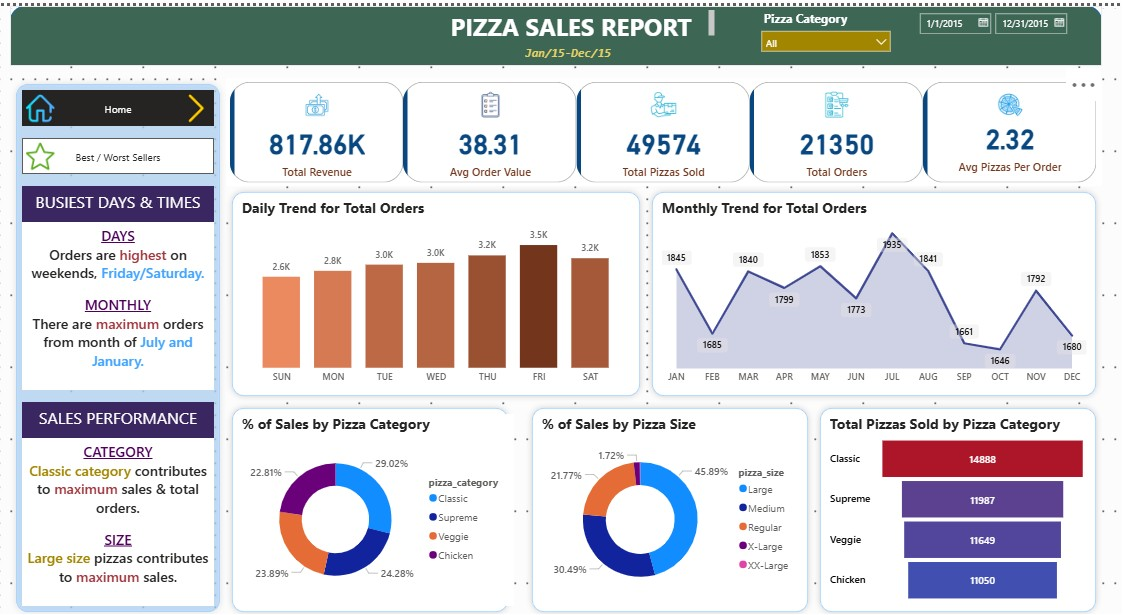

Layout of this report page (visuals, bound fields, positions):
{"tool":"powerbi","page":{"name":"Home","canvas":[1500,820],"ordinal":0},"visuals":[{"type":"shape","box":[16,96,288,720],"z":0},{"type":"cardVisual","fields":{"Data":["pizza_sales.Total Revenue","pizza_sales.Avg Order Value","pizza_sales.Total Pizzas Sold","pizza_sales.Total Orders","pizza_sales.Avg Pizzas Per Order"]},"box":[304,96,1168,144],"z":1000},{"type":"shape","box":[16,0,1456,80],"z":2000},{"type":"textbox","box":[576,0,384,48],"z":3000},{"type":"textbox","box":[688,48,144,32],"z":4000},{"type":"shape","box":[304,240,560,288],"z":5000},{"type":"columnChart","title":"Daily Trend for Total Orders","fields":{"Category":["pizza_sales.Order Day"],"Y":["pizza_sales.Total Orders"]},"box":[320,256,528,256],"z":6000},{"type":"shape","box":[864,240,608,288],"z":7000},{"type":"textbox","box":[32,240,256,48],"z":8000},{"type":"areaChart","title":"Monthly Trend for Total Orders","fields":{"Category":["pizza_sales.Order Month"],"Y":["pizza_sales.Total Orders"]},"box":[880,256,576,256],"z":9000},{"type":"shape","box":[304,528,384,288],"z":10000},{"type":"shape","box":[704,528,384,288],"z":11000},{"type":"shape","box":[1088,528,384,288],"z":12000},{"type":"donutChart","title":"% of Sales by Pizza Category","fields":{"Category":["pizza_sales.pizza_category"],"Y":["pizza_sales.Total Orders"]},"box":[320,544,368,256],"z":13000},{"type":"donutChart","title":"% of Sales by Pizza Size","fields":{"Category":["pizza_sales.pizza_size"],"Y":["pizza_sales.Total Revenue"]},"box":[720,544,352,256],"z":14000},{"type":"funnel","title":"Total Pizzas Sold by Pizza Category","fields":{"Category":["pizza_sales.pizza_category"],"Y":["pizza_sales.Total Pizzas Sold"]},"box":[1104,544,352,256],"z":15000},{"type":"textbox","box":[32,288,256,224],"z":16000},{"type":"textbox","box":[32,528,256,48],"z":17000},{"type":"textbox","box":[32,576,256,224],"z":18000},{"type":"slicer","fields":{"Values":["pizza_sales.pizza_category"]},"box":[1008,0,192,80],"z":19000},{"type":"slicer","fields":{"Values":["pizza_sales.order_date"]},"box":[1216,0,224,64],"z":20000},{"type":"pageNavigator","box":[32,112,256,48],"z":21000},{"type":"pageNavigator","box":[32,176,256,48],"z":22000},{"type":"image","box":[32,112,48,48],"z":23000},{"type":"image","box":[32,176,48,48],"z":24000},{"type":"image","box":[240,112,48,48],"z":25000}]}

Visuals, with their boxes in screenshot pixels (x1, y1, x2, y2), scaled from the page's 1500x820 canvas onto the 1123x615 screenshot:
shape: crop(12, 72, 228, 612)
cardVisual - pizza_sales.Total Revenue x pizza_sales.Avg Order Value: crop(228, 72, 1102, 180)
shape: crop(12, 0, 1102, 60)
textbox: crop(431, 0, 719, 36)
textbox: crop(515, 36, 623, 60)
shape: crop(228, 180, 647, 396)
"Daily Trend for Total Orders" columnChart: crop(240, 192, 635, 384)
shape: crop(647, 180, 1102, 396)
textbox: crop(24, 180, 216, 216)
"Monthly Trend for Total Orders" areaChart: crop(659, 192, 1090, 384)
shape: crop(228, 396, 515, 612)
shape: crop(527, 396, 815, 612)
shape: crop(815, 396, 1102, 612)
"% of Sales by Pizza Category" donutChart: crop(240, 408, 515, 600)
"% of Sales by Pizza Size" donutChart: crop(539, 408, 803, 600)
"Total Pizzas Sold by Pizza Category" funnel: crop(827, 408, 1090, 600)
textbox: crop(24, 216, 216, 384)
textbox: crop(24, 396, 216, 432)
textbox: crop(24, 432, 216, 600)
slicer - pizza_sales.pizza_category: crop(755, 0, 898, 60)
slicer - pizza_sales.order_date: crop(910, 0, 1078, 48)
pageNavigator: crop(24, 84, 216, 120)
pageNavigator: crop(24, 132, 216, 168)
image: crop(24, 84, 60, 120)
image: crop(24, 132, 60, 168)
image: crop(180, 84, 216, 120)
